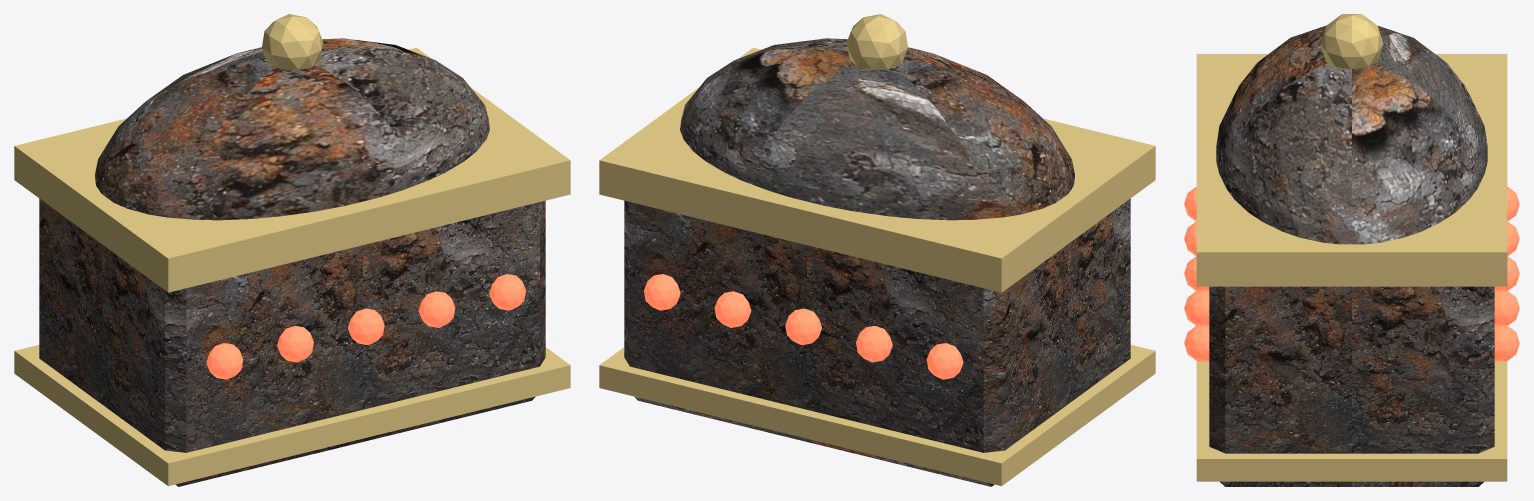
The model's file is ancient-reliquary-v01.glb.
The picture shows the model from 3 angles, left to right: view 1: azimuth 30°, elevation 25°; view 2: azimuth 150°, elevation 25°; view 3: azimuth 270°, elevation 25°; orthographic projection.
Visible parts, largest first — view 1: ancient-reliquary; view 2: ancient-reliquary; view 3: ancient-reliquary.
Part boxes in pixels (<box>): ancient-reliquary: <box>14,14,570,486</box>; ancient-reliquary: <box>599,14,1155,486</box>; ancient-reliquary: <box>1184,14,1519,486</box>.
Bounding box in the file's own units: 0.74 × 0.67 × 0.53.
Materials: 3 (1 with a texture image).
